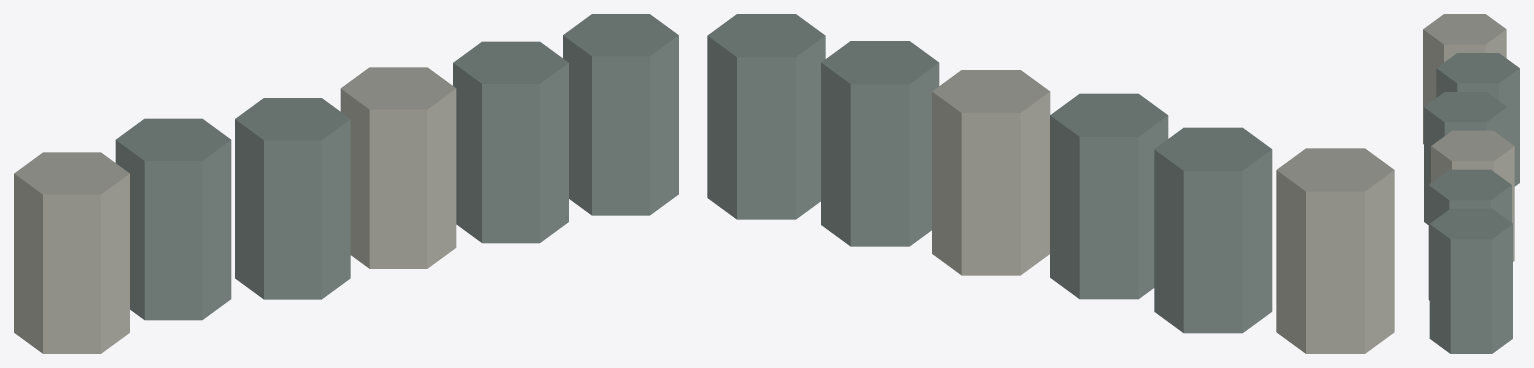
The model's file is SM_Bidones_v1_Fila6_LOD1.fbx.
3 views of the same model, side by side, from view 1: azimuth 30°, elevation 25°; view 2: azimuth 150°, elevation 25°; view 3: azimuth 270°, elevation 25° (orthographic). The views are drawn at different scales.
Visible parts, largest first — view 1: SM_sagunto_vivo_v1_LOD1; view 2: SM_sagunto_vivo_v1_LOD1; view 3: SM_sagunto_vivo_v1_LOD1.
Part boxes in pixels (left/top/right/bottom): SM_sagunto_vivo_v1_LOD1: left=14, top=14, right=678, bottom=353; SM_sagunto_vivo_v1_LOD1: left=707, top=14, right=1394, bottom=353; SM_sagunto_vivo_v1_LOD1: left=1423, top=14, right=1519, bottom=353.
Size of the model in its own units: 3.7 by 0.88 by 0.6722.
